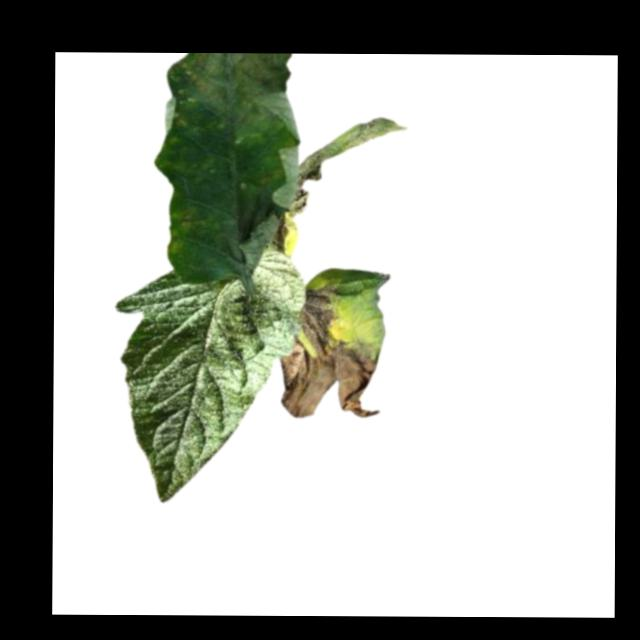Late_blight: (274, 281, 381, 420), (172, 52, 290, 139), (267, 145, 328, 255), (339, 117, 408, 150)
healthy: (114, 251, 307, 501)
